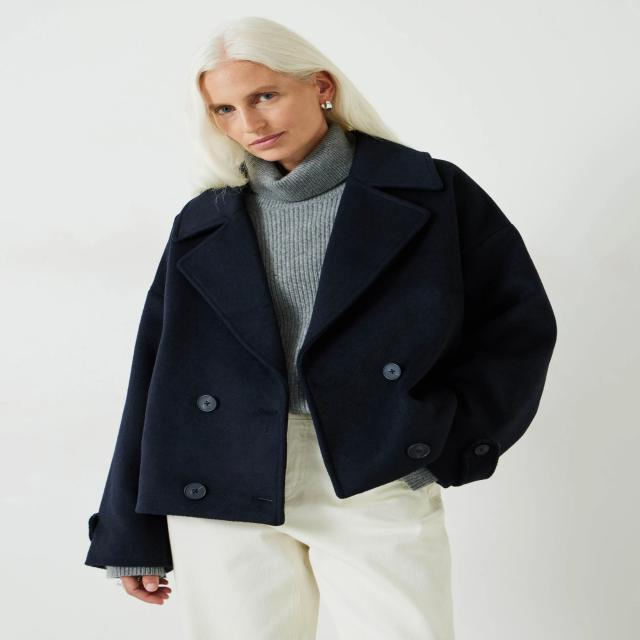jacket: (82, 125, 560, 571)
sweater: (239, 125, 358, 421)
